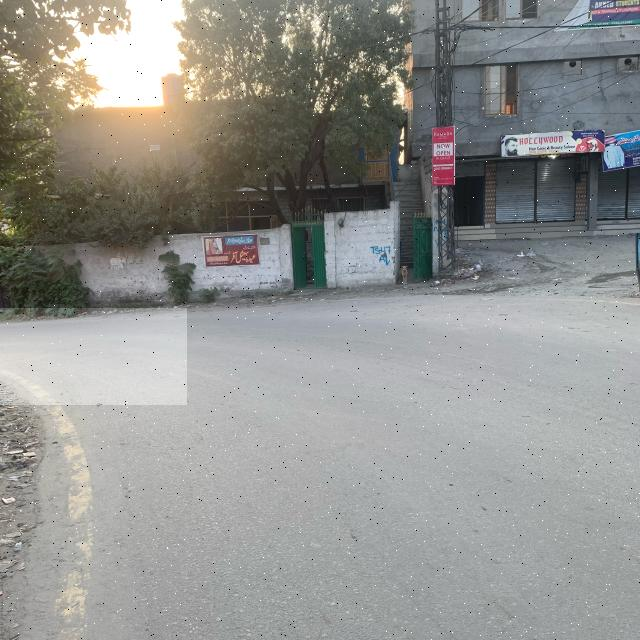left: (0, 308, 187, 405)
